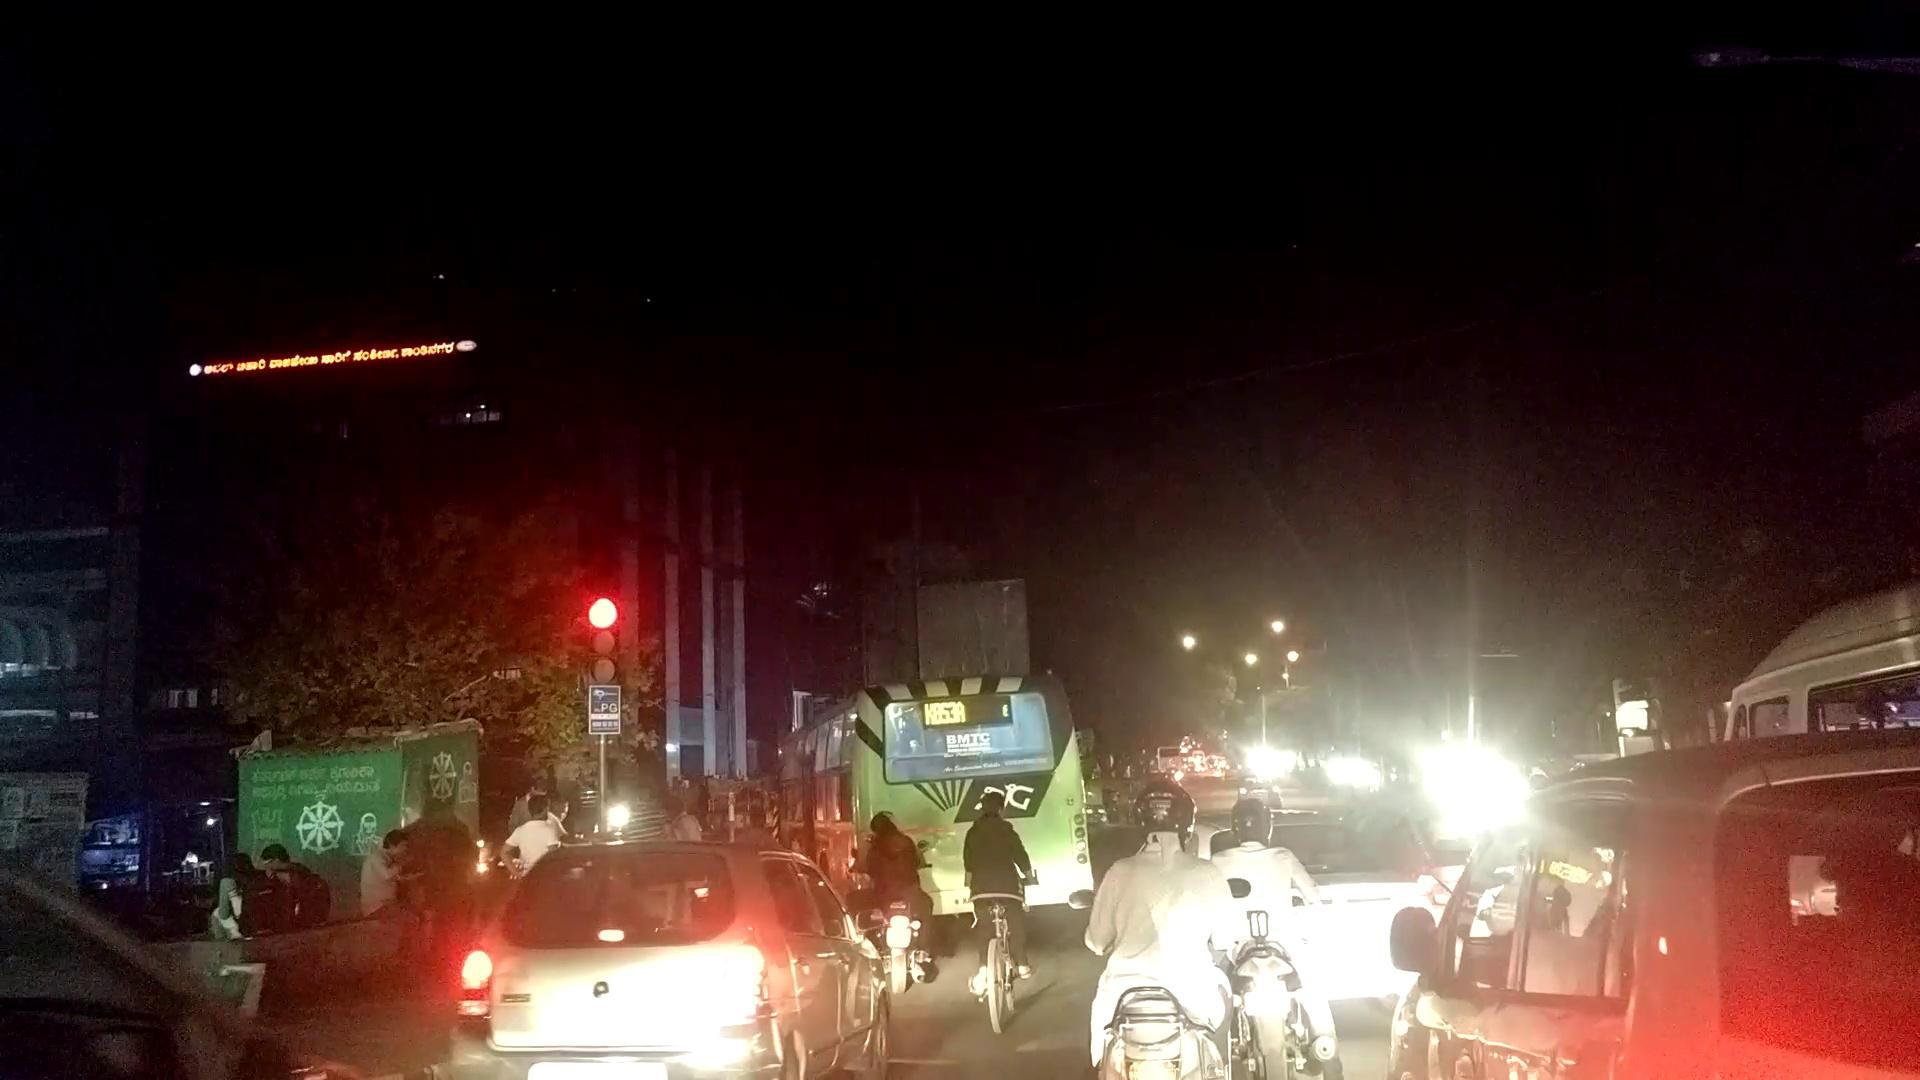on: (61, 102, 1920, 1080)
